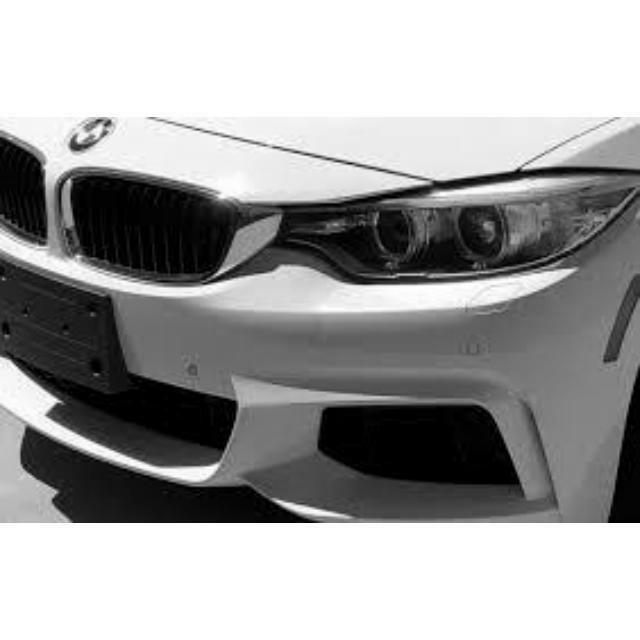front-bumper-dent: (272, 278, 628, 518)
